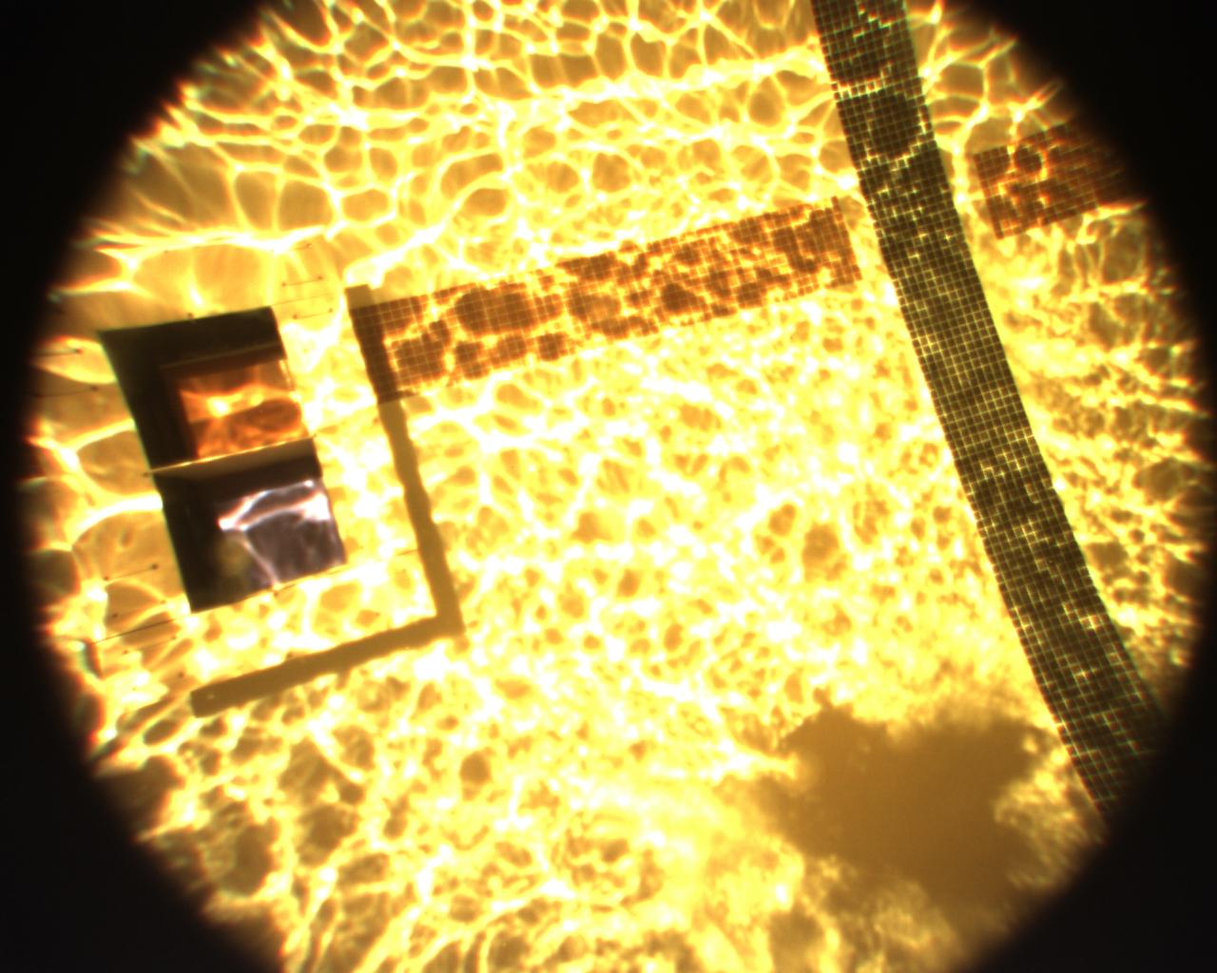dropper-box-top: (92, 298, 353, 614)
